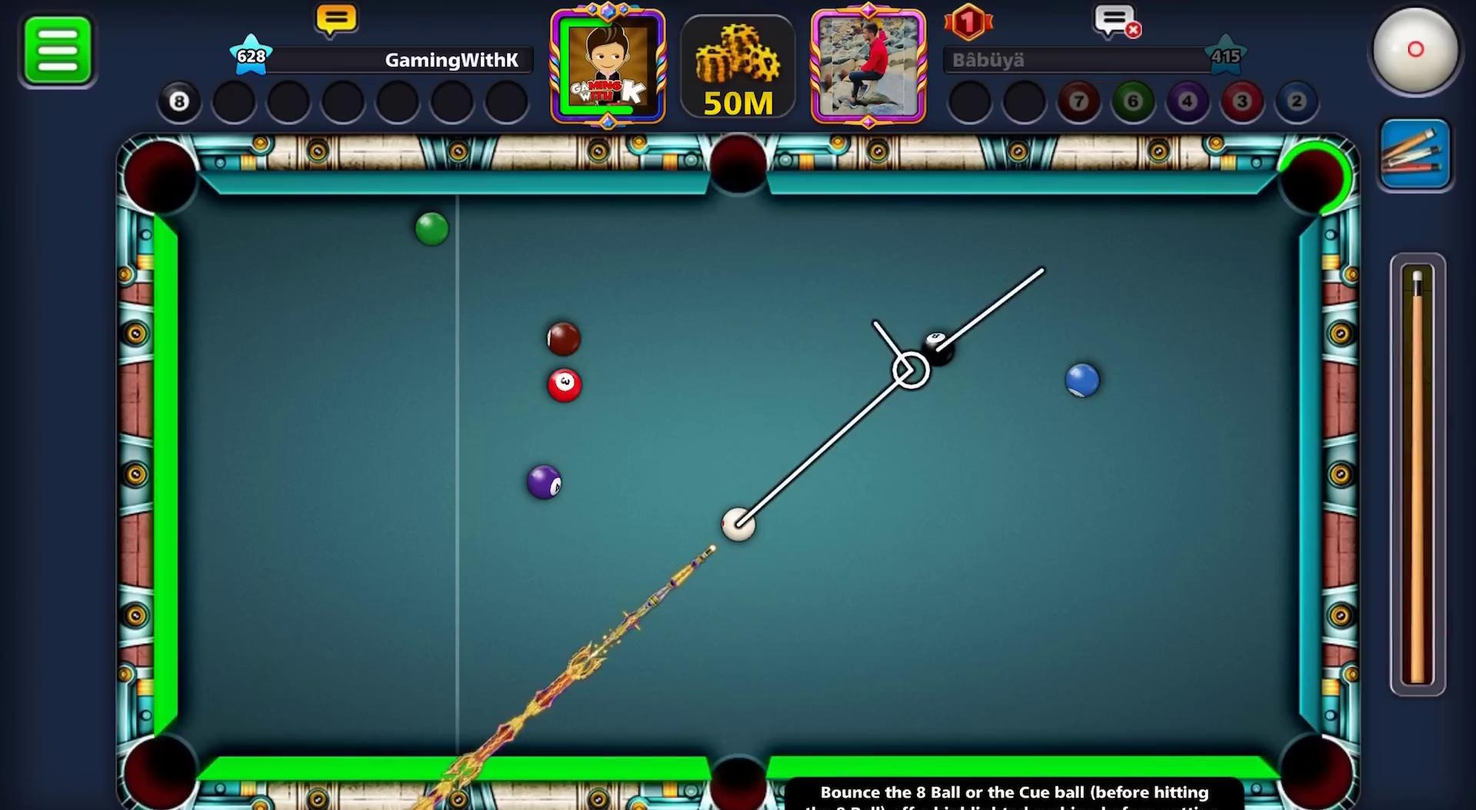Ball: (504, 452, 571, 504), (529, 312, 586, 363), (1057, 357, 1107, 406), (918, 327, 958, 369), (408, 210, 449, 249)
Force: (1386, 251, 1454, 693)
Guideline: (727, 256, 1058, 530)
Hole: (91, 708, 229, 809), (1251, 705, 1375, 809), (106, 124, 209, 227), (1266, 125, 1364, 228), (684, 712, 777, 809), (702, 120, 786, 215)
Play_Area: (181, 193, 1294, 759)
Spin: (1362, 0, 1475, 111)
White: (715, 500, 757, 549)
